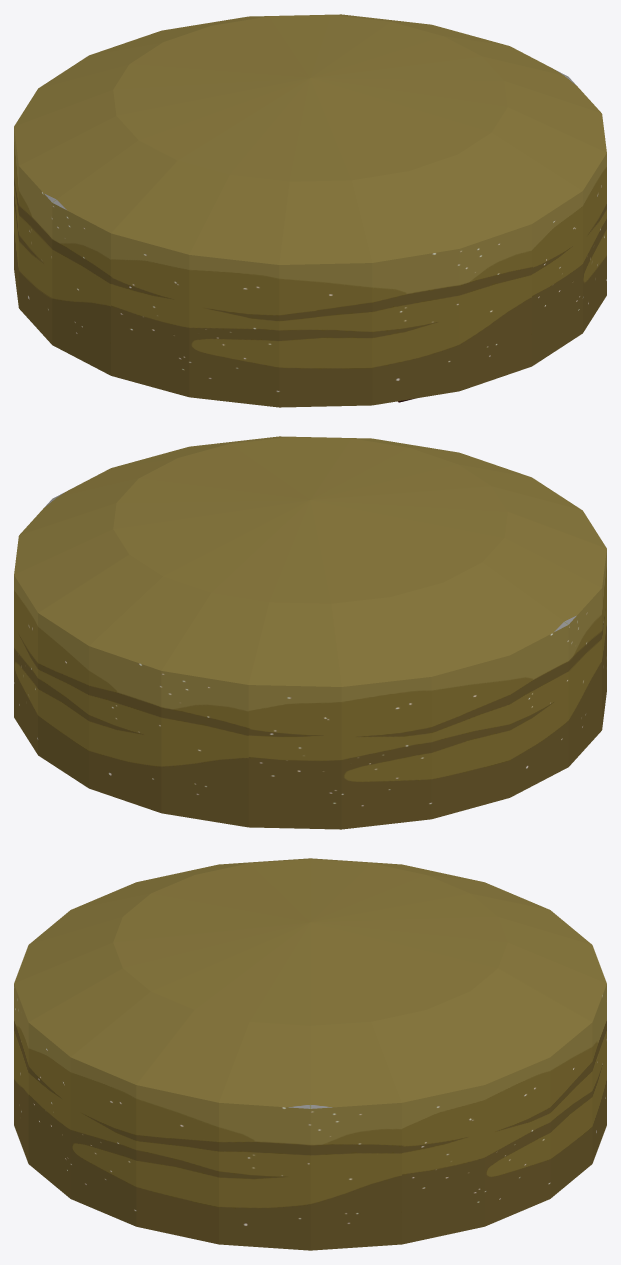
File: Coliseum.glb
The picture shows the model from 3 angles, top to bottom: view 1: azimuth 30°, elevation 25°; view 2: azimuth 150°, elevation 25°; view 3: azimuth 270°, elevation 25°; orthographic projection.
Visible parts, largest first — view 1: Coliseum_Sky; view 2: Coliseum_Sky; view 3: Coliseum_Sky.
Part boxes in pixels (left/top/right/bottom): Coliseum_Sky: left=14, top=14, right=606, bottom=407; Coliseum_Sky: left=14, top=436, right=606, bottom=829; Coliseum_Sky: left=14, top=858, right=606, bottom=1250.
Size of the model in its own units: 98.85 by 45.87 by 98.85.
Materials: 4 (4 with a texture image).
